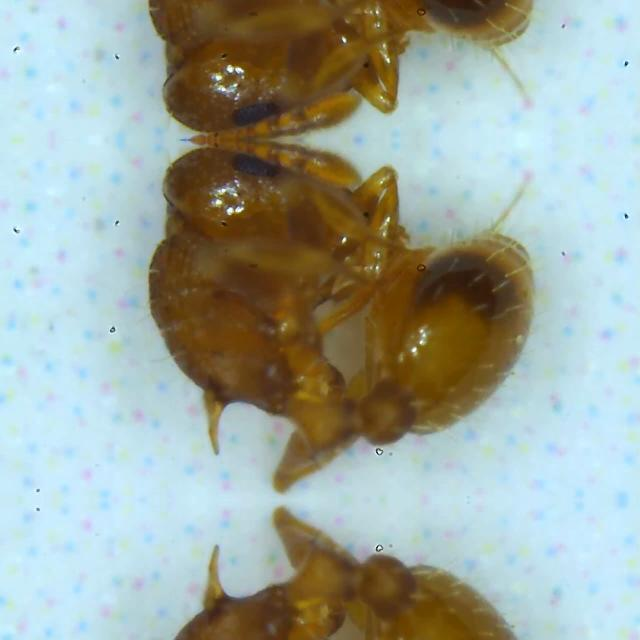Temnothorax: (96, 140, 606, 492), (96, 0, 606, 140), (96, 506, 606, 640)
